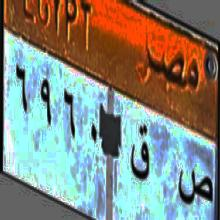0: (88, 117, 98, 148)
6: (62, 86, 78, 152), (13, 64, 29, 121)
9: (39, 72, 53, 136)
qaaf: (128, 118, 150, 189)
saad: (176, 150, 213, 217)
